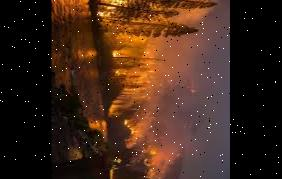fire: (96, 0, 180, 99), (116, 114, 170, 174)
